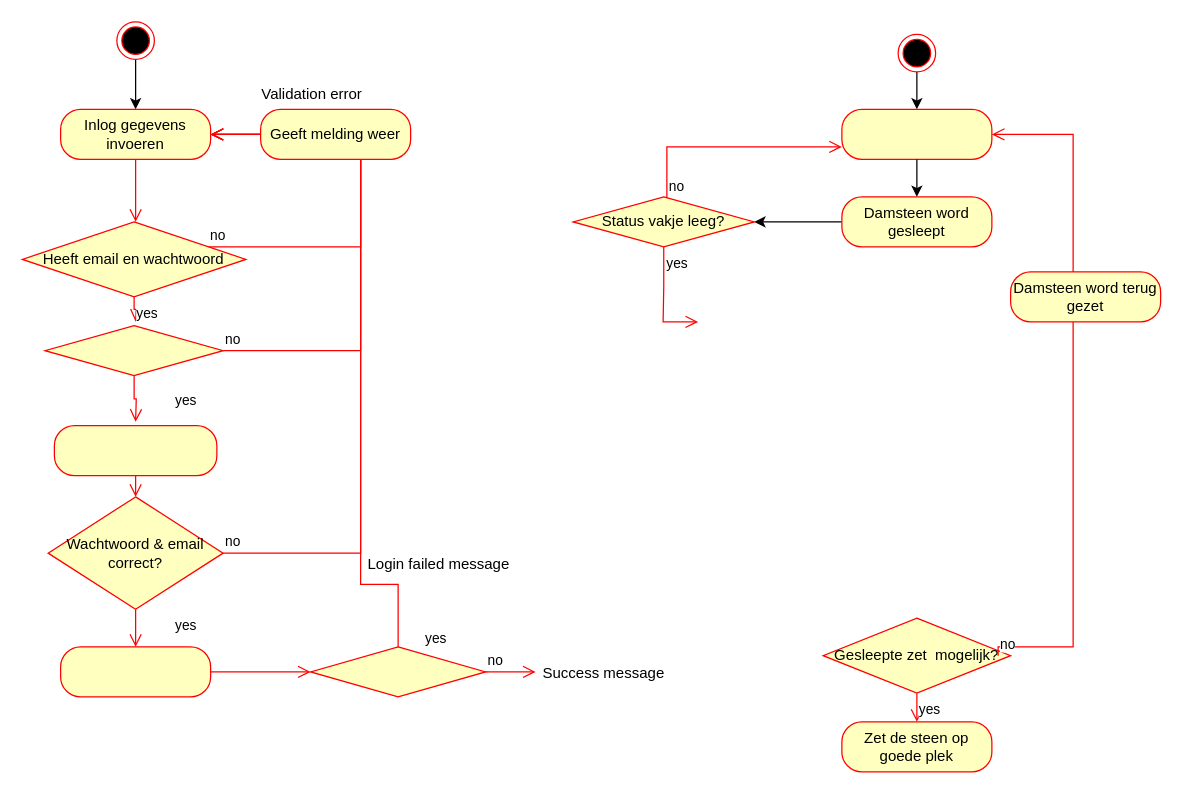
Image size: 1183x794. Some labels were removed from this diagram. The centre of each missing label's shape, as x and y in pixels:
"Account inloggen met gegevens" goes at (x=135, y=450).
"Bestaat account?" goes at (x=133, y=350).
"Fout opgetreden?" goes at (x=397, y=671).
"Log account in" goes at (x=135, y=671).
"Start zet" goes at (x=916, y=133).
